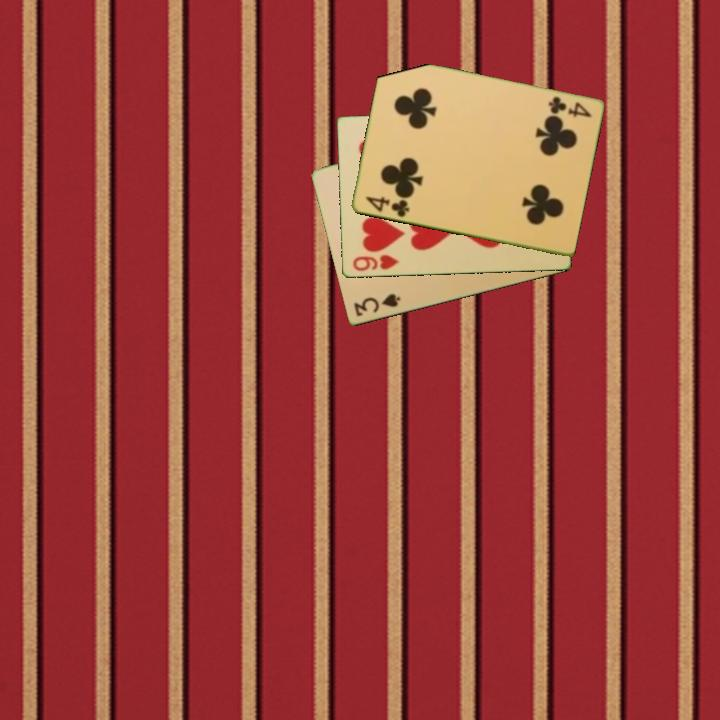3s: (350, 290, 403, 320)
4c: (545, 93, 595, 121), (362, 193, 412, 220)
9h: (349, 251, 401, 274)
